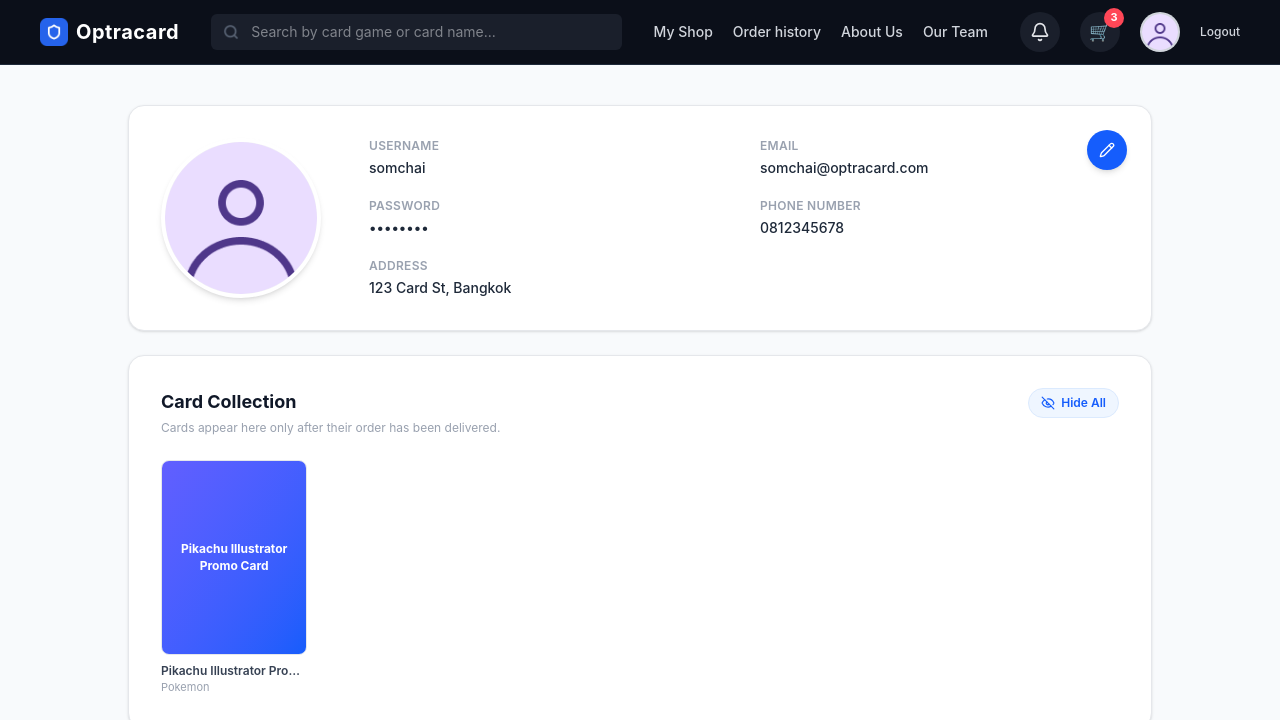
Buyer Profile, Cart & Checkout Journey › displays user profile and allows editing information
Expected: the text "somchai" is shown, [369,159,425,176]
Expected: the text "somchai@optracard.com" is shown, [760,159,928,176]
// Click edit profile button
Click the button named "Edit profile" at (1107, 150), box [1087,130,1127,170]
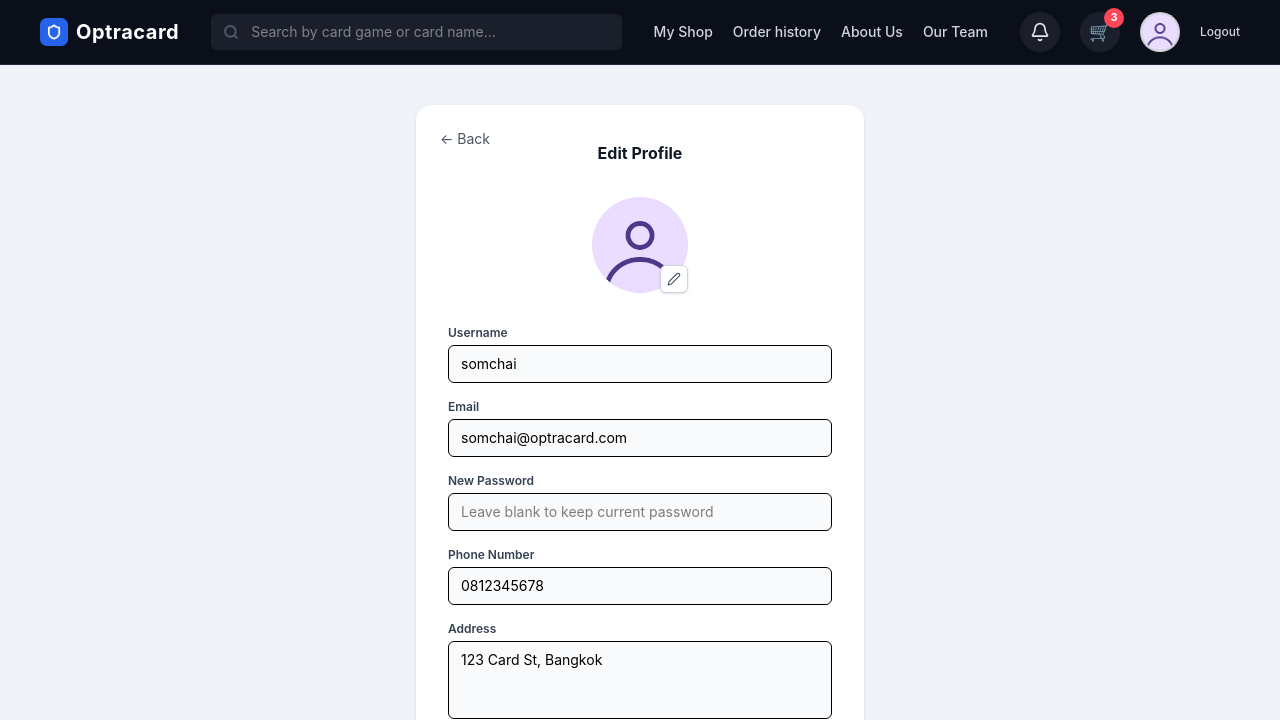
Result: the field below "Phone Number" is shown at [448,567,832,605]
